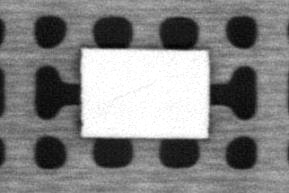DIE_CRACK: (111, 80, 159, 101)
